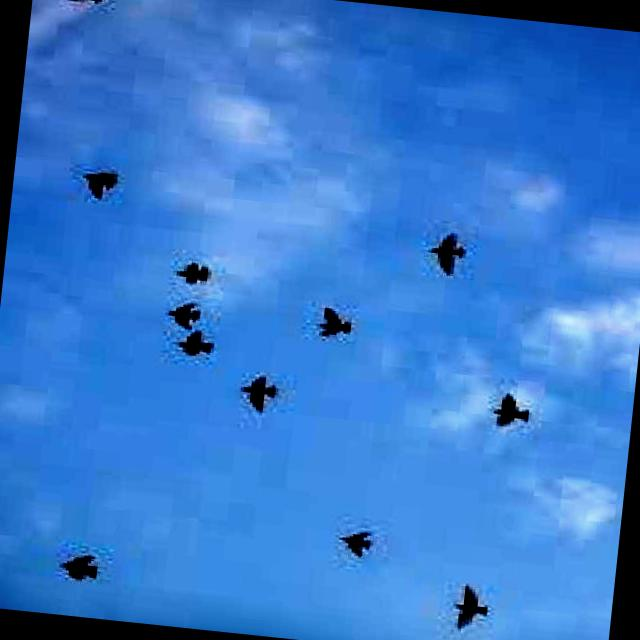bird: (416, 220, 476, 282), (328, 516, 390, 574), (50, 0, 148, 36), (172, 250, 235, 301), (148, 294, 224, 336), (236, 367, 292, 421), (445, 582, 503, 632), (74, 155, 128, 207), (477, 390, 540, 432), (60, 545, 115, 590), (310, 303, 361, 349), (172, 325, 218, 372)
